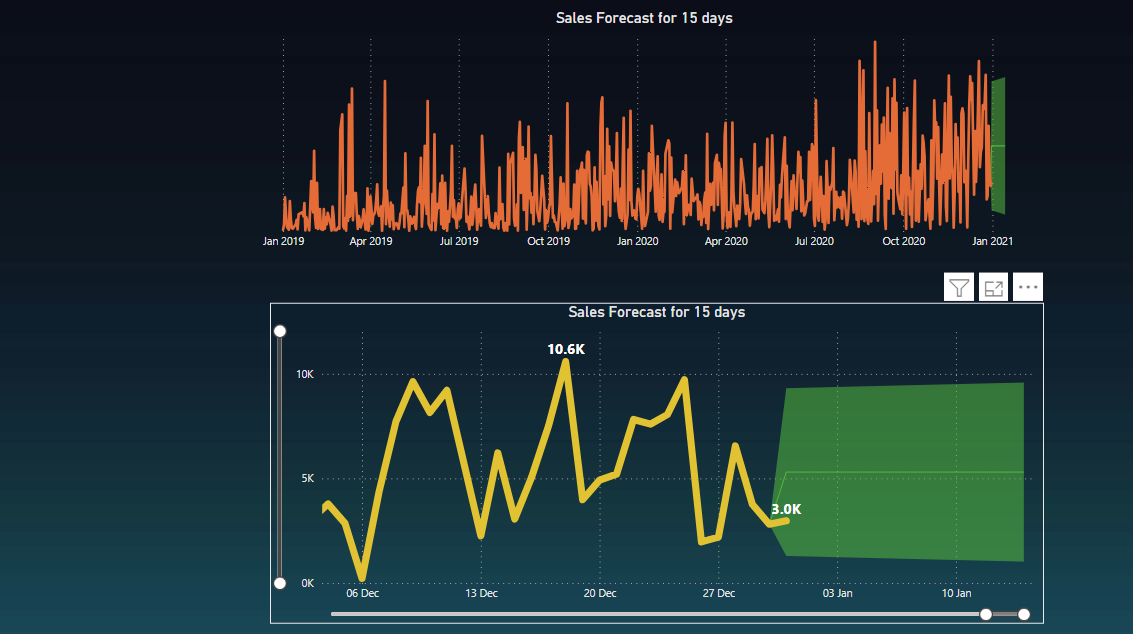

The page's visual inventory and layout, read from the dashboard file:
{"tool":"powerbi","page":{"name":"Forecasting","canvas":[1280,720],"ordinal":1},"visuals":[{"type":"lineChart","title":"Sales Forecast for 15 days","fields":{"Y":["Sum(SuperStore_Sales_Dataset.Sales)"],"Category":["SuperStore_Sales_Dataset.Order Date"]},"box":[290,11.4,871.4,280],"z":0},{"type":"lineChart","title":"Sales Forecast for 15 days","fields":{"Y":["Sum(SuperStore_Sales_Dataset.Sales)"],"Category":["SuperStore_Sales_Dataset.Order Date"]},"box":[304.3,342.9,871.4,361.4],"z":1000}]}

Visuals, with their boxes in screenshot pixels (x1, y1, x2, y2), scaled from the page's 1280x720 canvas onto the 1133x634 screenshot:
"Sales Forecast for 15 days" lineChart: 257 10 1028 257
"Sales Forecast for 15 days" lineChart: 269 302 1041 620
